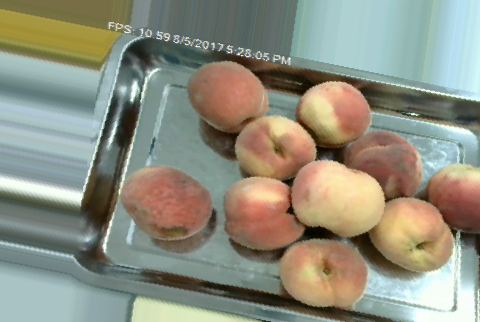Peach: (121, 165, 213, 242), (292, 159, 380, 239), (366, 195, 454, 269), (295, 75, 376, 151), (277, 238, 369, 303), (223, 175, 301, 251), (186, 61, 267, 133), (236, 113, 314, 185), (339, 131, 424, 197), (431, 166, 479, 235)
